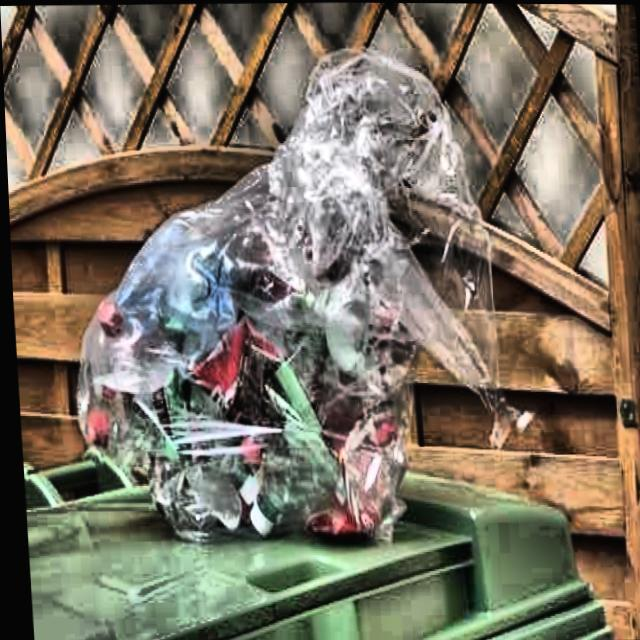Plastic: (39, 53, 553, 563)
